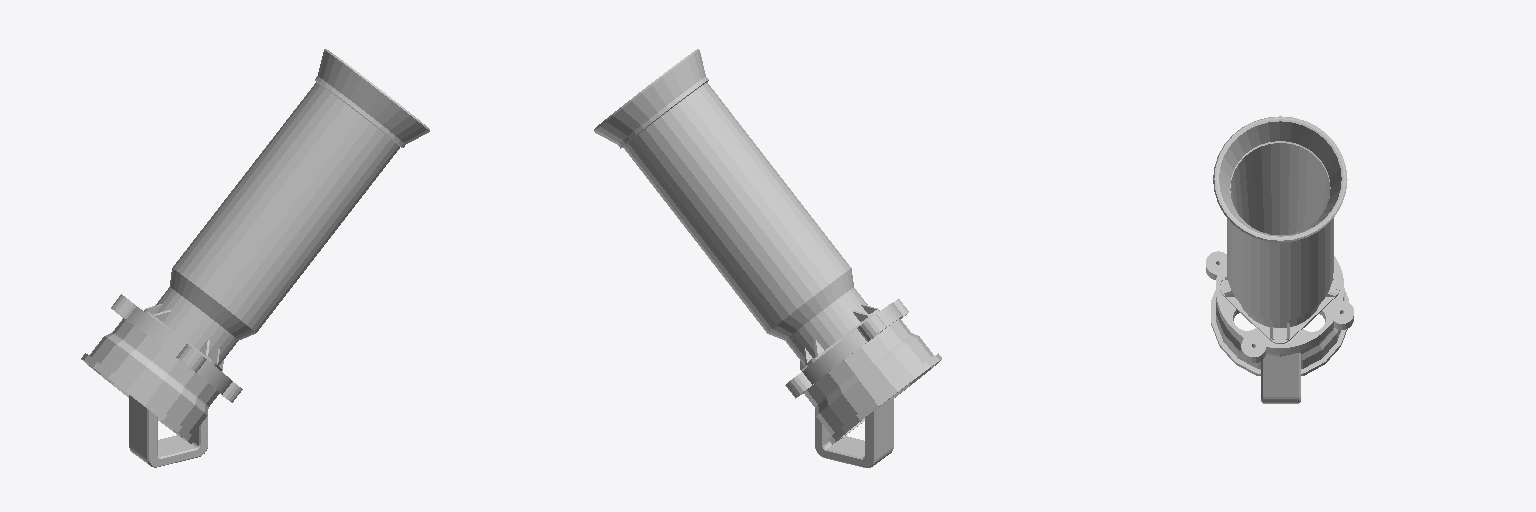
File: Startracker.obj
3 views of the same model, side by side, from view 1: azimuth 30°, elevation 25°; view 2: azimuth 150°, elevation 25°; view 3: azimuth 270°, elevation 25° (orthographic).
Visible parts, largest first — view 1: Tube013, Object207; view 2: Tube013, Object207; view 3: Tube013, Object207.
Boxes of the visible parts, box(x1,y1,x2,y2) form: Tube013: box(81, 49, 429, 443); Object207: box(129, 395, 207, 467); Tube013: box(594, 49, 941, 444); Object207: box(815, 396, 893, 467); Tube013: box(1206, 116, 1353, 375); Object207: box(1261, 353, 1300, 403).
Size of the model in its own units: 32.68 by 34.38 by 12.92.